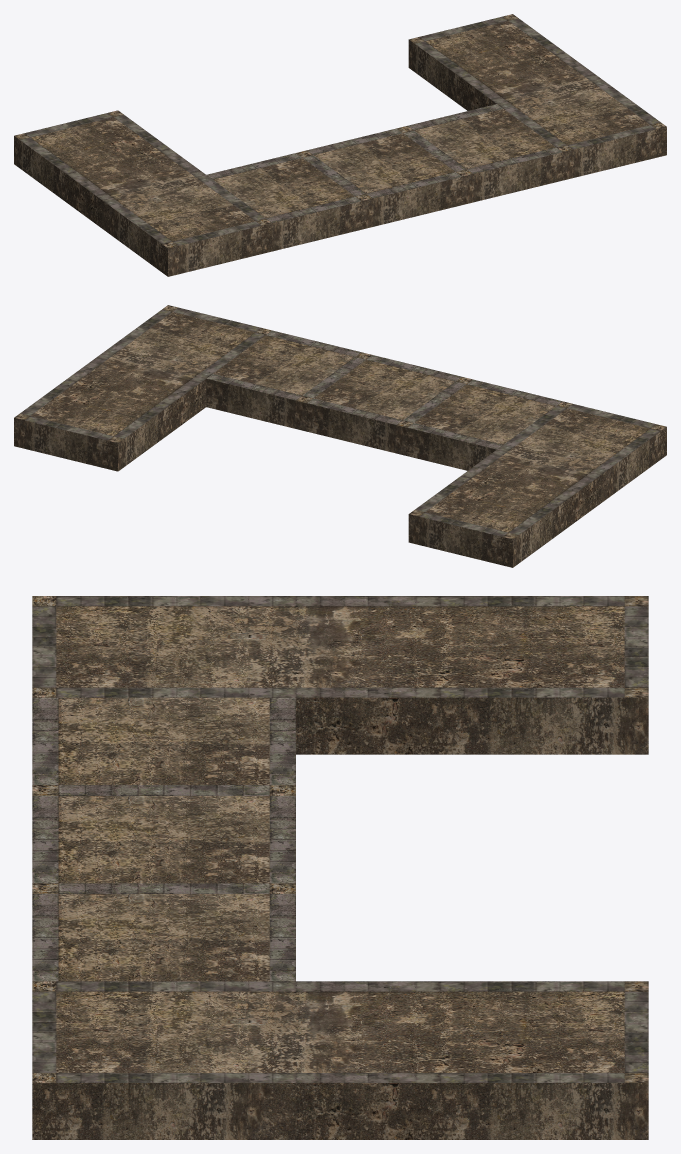
Rendered from materials_5_floor_rectangle_22.fbx.
The picture shows the model from 3 angles, top to bottom: view 1: azimuth 30°, elevation 25°; view 2: azimuth 150°, elevation 25°; view 3: azimuth 270°, elevation 25°; orthographic projection. The views are drawn at different scales.
Visible parts, largest first — view 1: materials_5_floor_rectangle_22; view 2: materials_5_floor_rectangle_22; view 3: materials_5_floor_rectangle_22.
Boxes of the visible parts, x1,y1,x2,y2 form: materials_5_floor_rectangle_22: [14, 14, 666, 276]; materials_5_floor_rectangle_22: [14, 305, 666, 567]; materials_5_floor_rectangle_22: [32, 596, 648, 1139].
Bounding box in the file's own units: 832 × 45.32 × 445.
